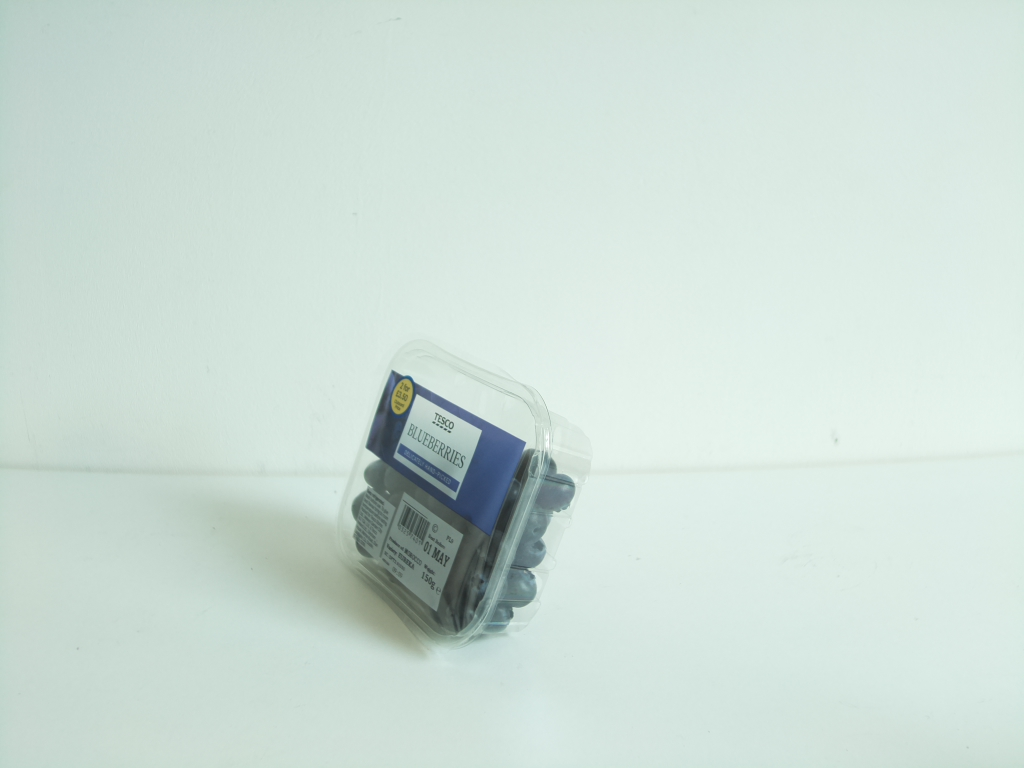soft-fruit: (338, 345, 594, 647)
